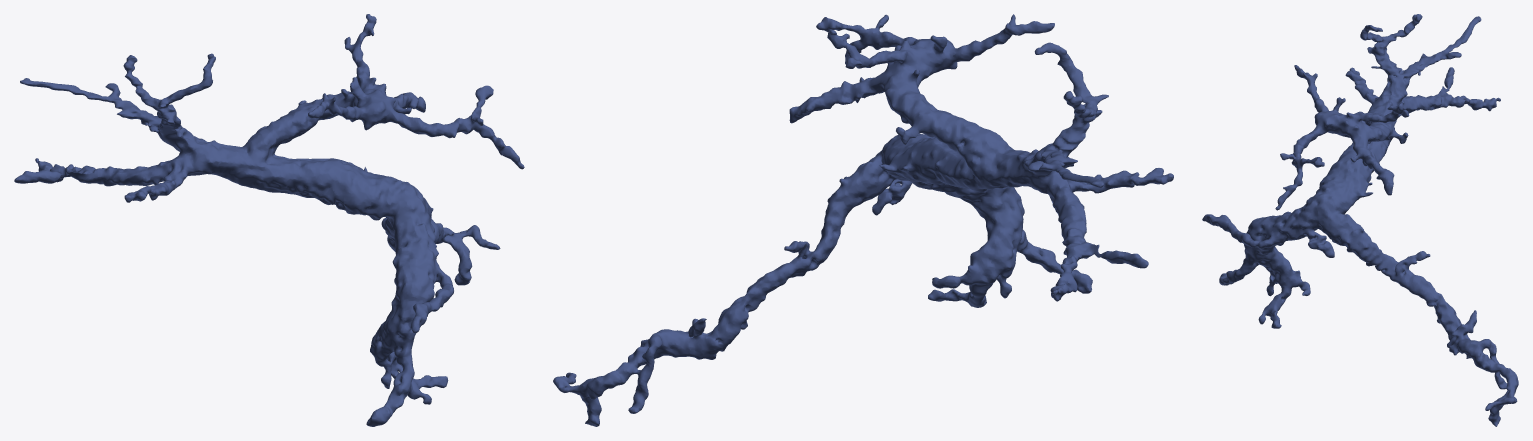
Rendered from liver_portal_vein.glb.
3 views of the same model, side by side, from view 1: azimuth 30°, elevation 25°; view 2: azimuth 150°, elevation 25°; view 3: azimuth 270°, elevation 25° (orthographic). The views are drawn at different scales.
Visible parts, largest first — view 1: Default; view 2: Default; view 3: Default.
Boxes of the visible parts, x1=… form: Default: x1=14, y1=14, x2=524, y2=426; Default: x1=553, y1=14, x2=1173, y2=426; Default: x1=1202, y1=14, x2=1518, y2=426.
Size of the model in its own units: 1 by 0.695 by 0.7185.
